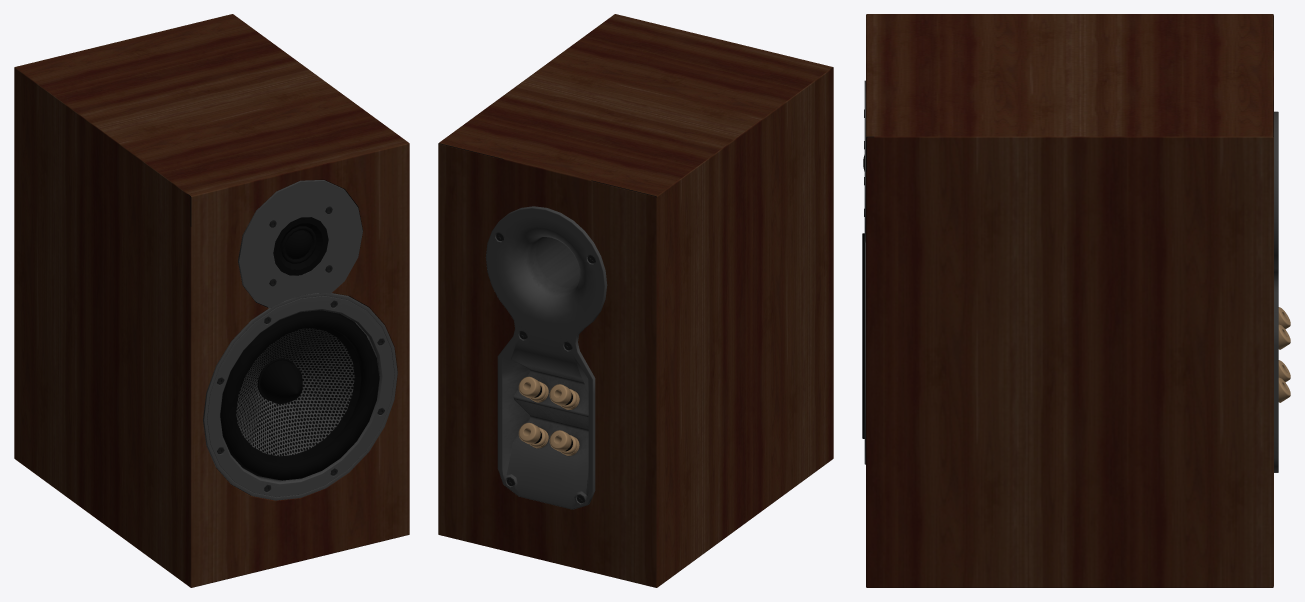
File: speaker.glb
3 renders of one model, left to right at view 1: azimuth 30°, elevation 25°; view 2: azimuth 150°, elevation 25°; view 3: azimuth 270°, elevation 25°, orthographic. The views are drawn at different scales.
Visible parts, largest first — view 1: Untitled_speaker; view 2: Untitled_speaker; view 3: Untitled_speaker.
Boxes of the visible parts, left/top/right/bottom form: Untitled_speaker: left=14, top=14, right=409, bottom=587; Untitled_speaker: left=438, top=14, right=833, bottom=587; Untitled_speaker: left=862, top=14, right=1290, bottom=587.
Size of the model in its own units: 0.2471 by 0.4222 by 0.3629.
Materials: 1 (1 with a texture image).
